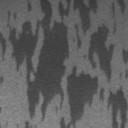red iron: (0, 0, 128, 128), (123, 48, 128, 64), (26, 0, 32, 12), (120, 72, 128, 80), (0, 78, 3, 83)
